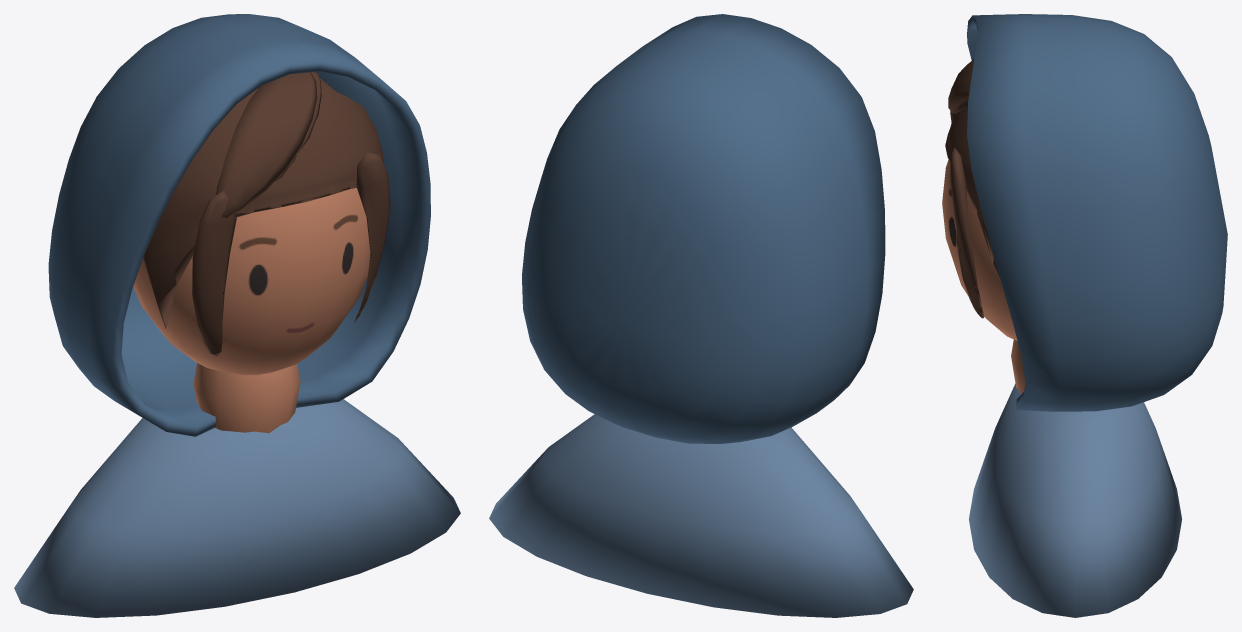
The model's file is traveller_painted_bun.glb.
The picture shows the model from 3 angles, left to right: view 1: azimuth 30°, elevation 25°; view 2: azimuth 150°, elevation 25°; view 3: azimuth 270°, elevation 25°; orthographic projection. The views are drawn at different scales.
Visible parts, largest first — view 1: Hood, TravellerBody, Head, HairCap.Bun, HairFringe.L.Bun, Neck, HairCheek.L.Bun, HairCheek.R.Bun; view 2: Hood, TravellerBody; view 3: Hood, TravellerBody, Head, HairCheek.R.Bun, HairCap.Bun, HairFringe.L.Bun, Neck.
Part boxes in pixels (bbox=[...]): Hood: bbox=[48, 14, 430, 436]; TravellerBody: bbox=[14, 399, 460, 617]; Head: bbox=[133, 188, 370, 375]; HairCap.Bun: bbox=[143, 77, 383, 328]; HairFringe.L.Bun: bbox=[215, 72, 317, 217]; Neck: bbox=[193, 363, 300, 433]; HairCheek.L.Bun: bbox=[192, 190, 236, 356]; HairCheek.R.Bun: bbox=[354, 152, 390, 322]; Hood: bbox=[522, 14, 885, 443]; TravellerBody: bbox=[489, 414, 913, 617]; Hood: bbox=[967, 14, 1227, 411]; TravellerBody: bbox=[969, 384, 1181, 617]; Head: bbox=[942, 159, 1017, 340]; HairCheek.R.Bun: bbox=[950, 148, 984, 318]; HairCap.Bun: bbox=[945, 101, 1000, 281]; HairFringe.L.Bun: bbox=[948, 59, 974, 113]; Neck: bbox=[1011, 340, 1025, 393].
Size of the model in its own units: 2.1 by 2.44 by 1.29.
Materials: 2 (2 with a texture image).
